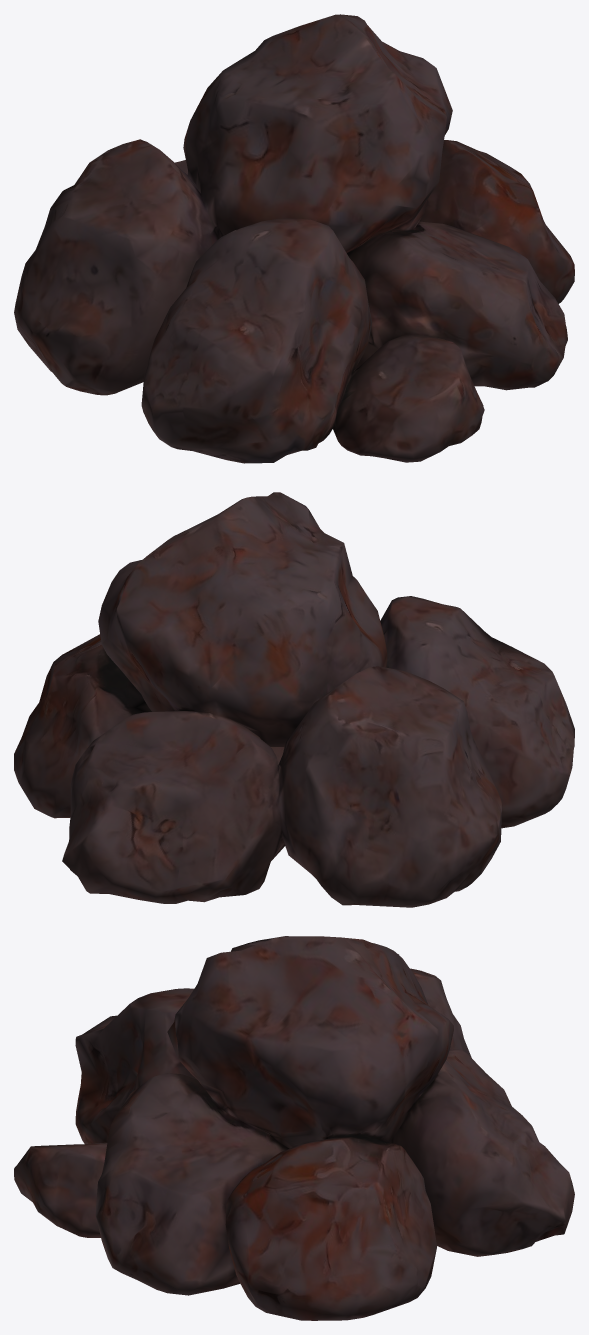
File: res_ore.glb
The picture shows the model from 3 angles, top to bottom: view 1: azimuth 30°, elevation 25°; view 2: azimuth 150°, elevation 25°; view 3: azimuth 270°, elevation 25°; orthographic projection. The views are drawn at different scales.
Visible parts, largest first — view 1: tripo_node_11e4f699-a165-4855-afdd-ab6711d1764d; view 2: tripo_node_11e4f699-a165-4855-afdd-ab6711d1764d; view 3: tripo_node_11e4f699-a165-4855-afdd-ab6711d1764d.
Part boxes in pixels (left/top/right/bottom): tripo_node_11e4f699-a165-4855-afdd-ab6711d1764d: left=14, top=14, right=574, bottom=463; tripo_node_11e4f699-a165-4855-afdd-ab6711d1764d: left=14, top=492, right=574, bottom=907; tripo_node_11e4f699-a165-4855-afdd-ab6711d1764d: left=14, top=936, right=574, bottom=1320.
Size of the model in its own units: 1.38 by 0.8401 by 1.4.
1 material, 1 textured.
